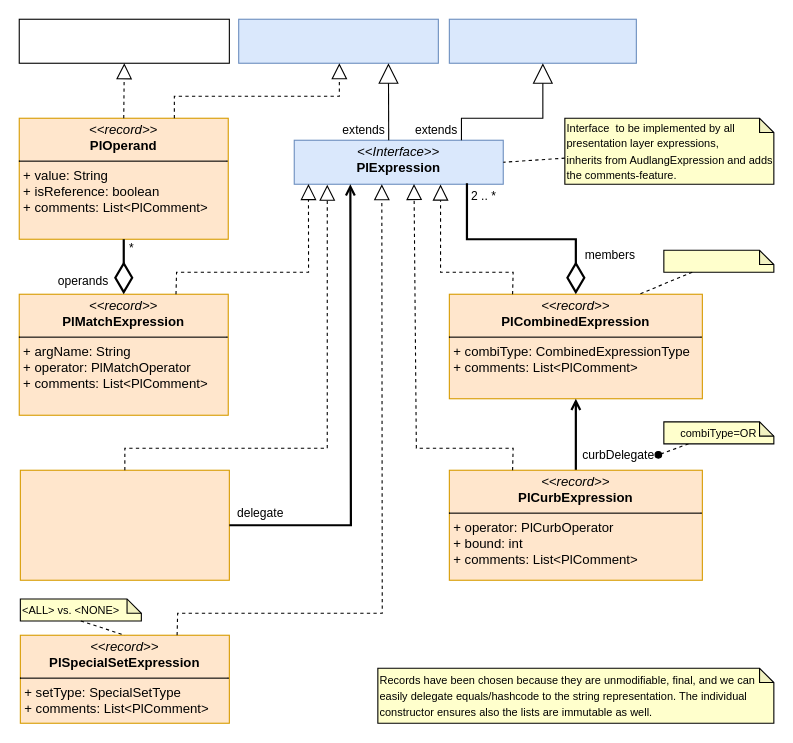
Some shapes in this 793 by 743 pixel diagram are drawn without their labels. The box of each missing label's shape, as (x1, y1, x2, y2) in pixels:
<<Interface>> AudlangExpression: (448, 18, 636, 63)
<<Interface>> AudlangFormattable: (18, 18, 229, 63)
<<Interface>> CommentAware: (238, 18, 438, 63)
<<record>> PlNegationExpression + isStrict: boolean + comments: List<PlComment>: (19, 469, 229, 580)
AND vs. OR: (663, 249, 774, 272)
